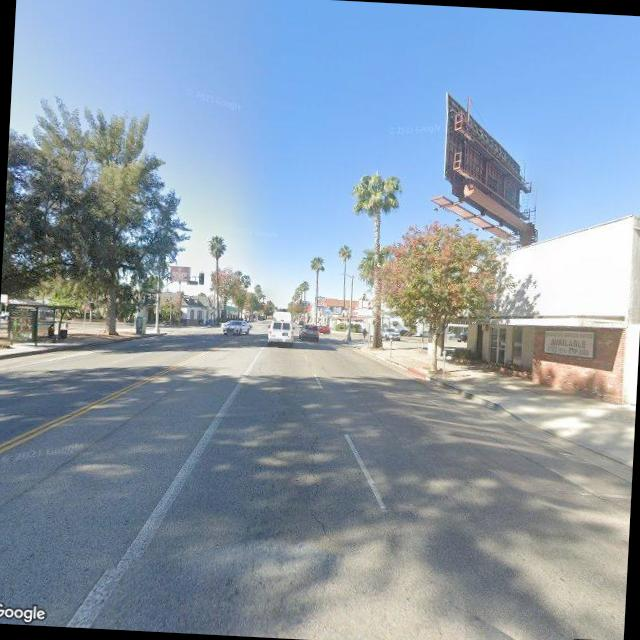pothole: (289, 394, 339, 545)
